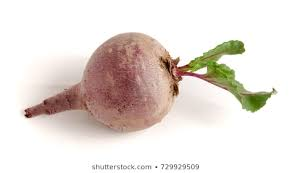beet: (26, 33, 277, 131)
